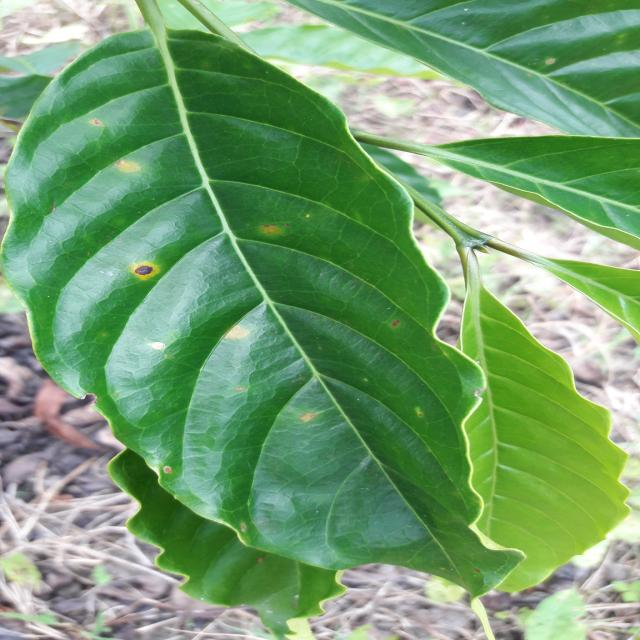Enfermedad-Roya: (0, 29, 514, 595)
